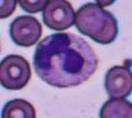N: (33, 32, 97, 88)
